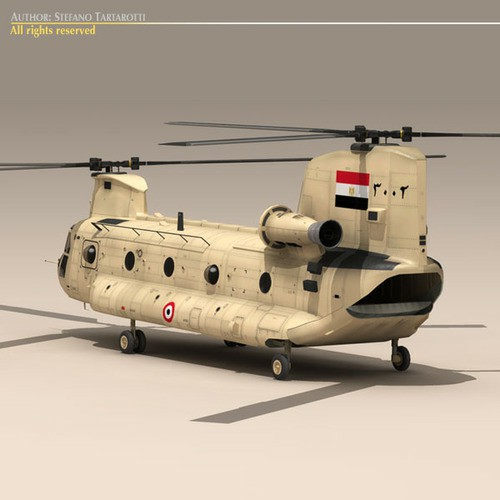chinook: (11, 119, 487, 376)
